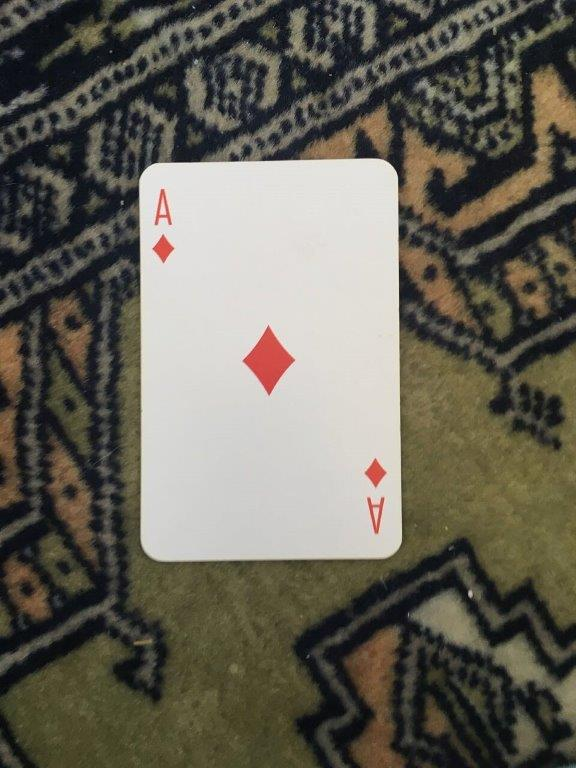AD: (134, 154, 406, 566)
